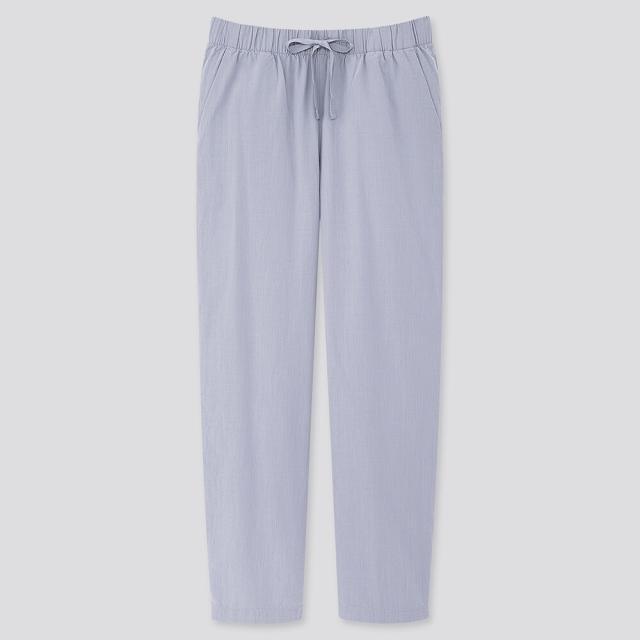long-pants: (195, 16, 448, 630)
